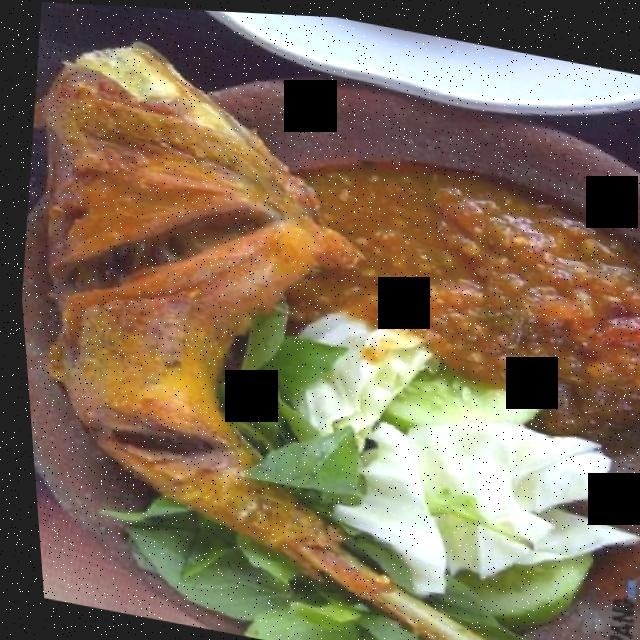Frango: (0, 0, 434, 606)
